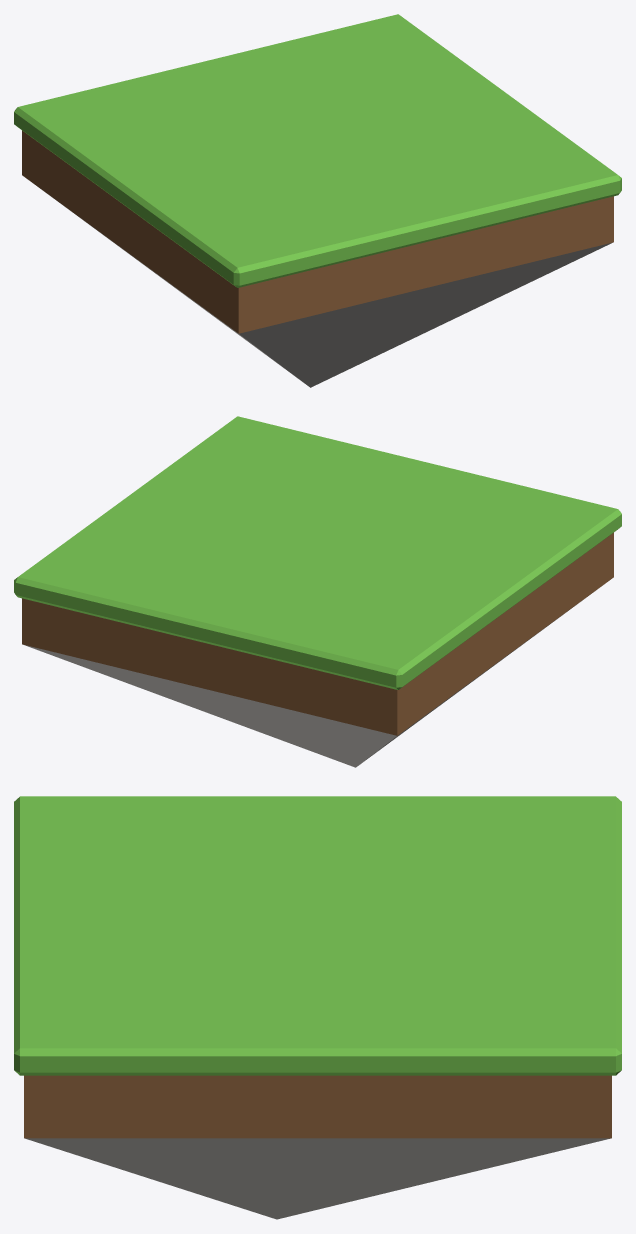
File: platform.glb
3 renders of one model, top to bottom at view 1: azimuth 30°, elevation 25°; view 2: azimuth 150°, elevation 25°; view 3: azimuth 270°, elevation 25°, orthographic. The views are drawn at different scales.
Visible parts, largest first — view 1: PlatformMesh; view 2: PlatformMesh; view 3: PlatformMesh.
Boxes of the visible parts, bbox=[...] form: PlatformMesh: bbox=[14, 14, 621, 387]; PlatformMesh: bbox=[14, 416, 621, 767]; PlatformMesh: bbox=[14, 796, 621, 1219].
Bounding box in the file's own units: 3 × 1.7 × 3.
